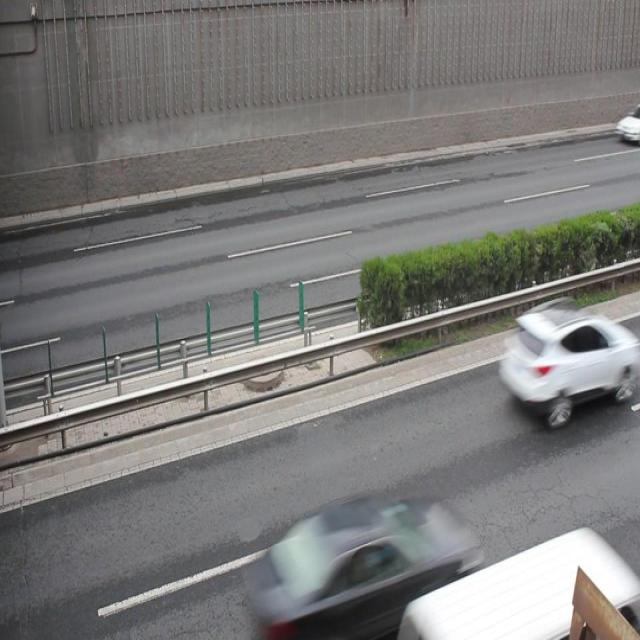car: (251, 496, 481, 640), (502, 300, 640, 424), (614, 103, 640, 141)
truck: (402, 522, 640, 640)
